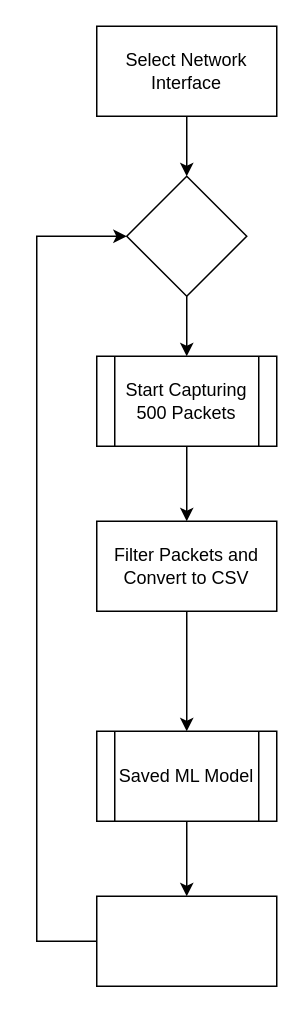
The diagram is 303 pixels wide and 1013 high, and some of its shapes have lost their labels. Here are the shapes that lost their labels. From the top down, the box of each, then its label:
(125, 175, 247, 296): while True
(95, 895, 277, 986): Output to Frontend
